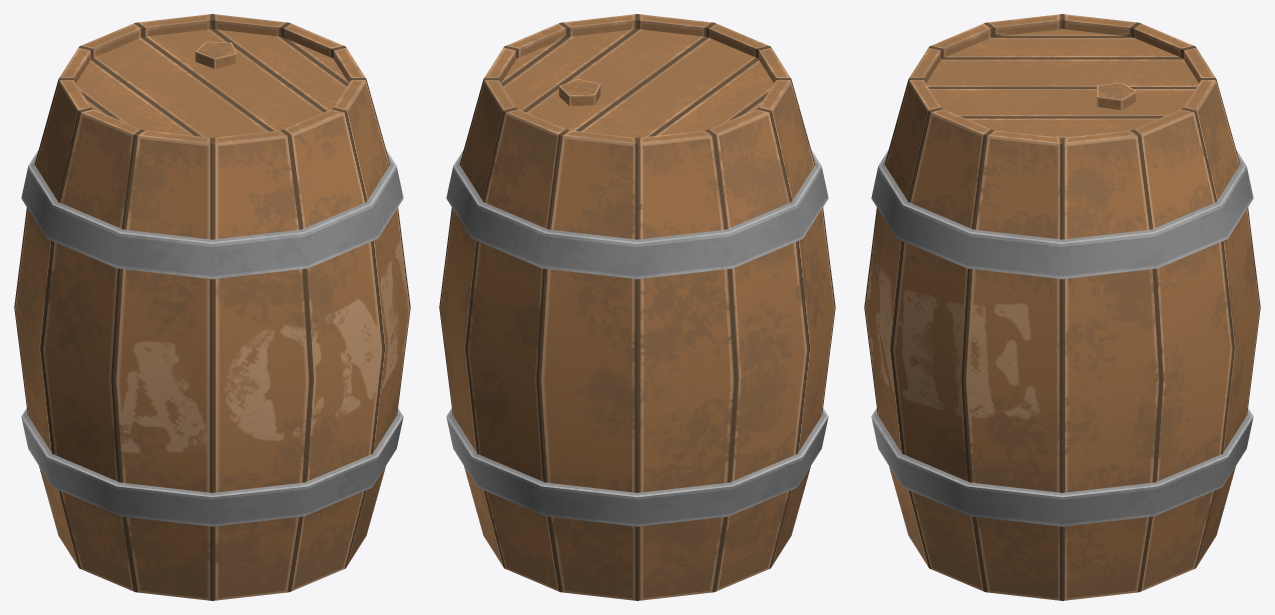
Rendered from Low Poly Barrel.fbx.
The picture shows the model from 3 angles, left to right: view 1: azimuth 30°, elevation 25°; view 2: azimuth 150°, elevation 25°; view 3: azimuth 270°, elevation 25°; orthographic projection.
Parts seen in each view (by area): view 1: Cylinder; view 2: Cylinder; view 3: Cylinder.
Boxes of the visible parts, box(x1,y1,x2,y2) form: Cylinder: box(14, 14, 410, 600); Cylinder: box(439, 14, 835, 600); Cylinder: box(864, 14, 1260, 600).
Size of the model in its own units: 70.79 by 90.53 by 70.79.
